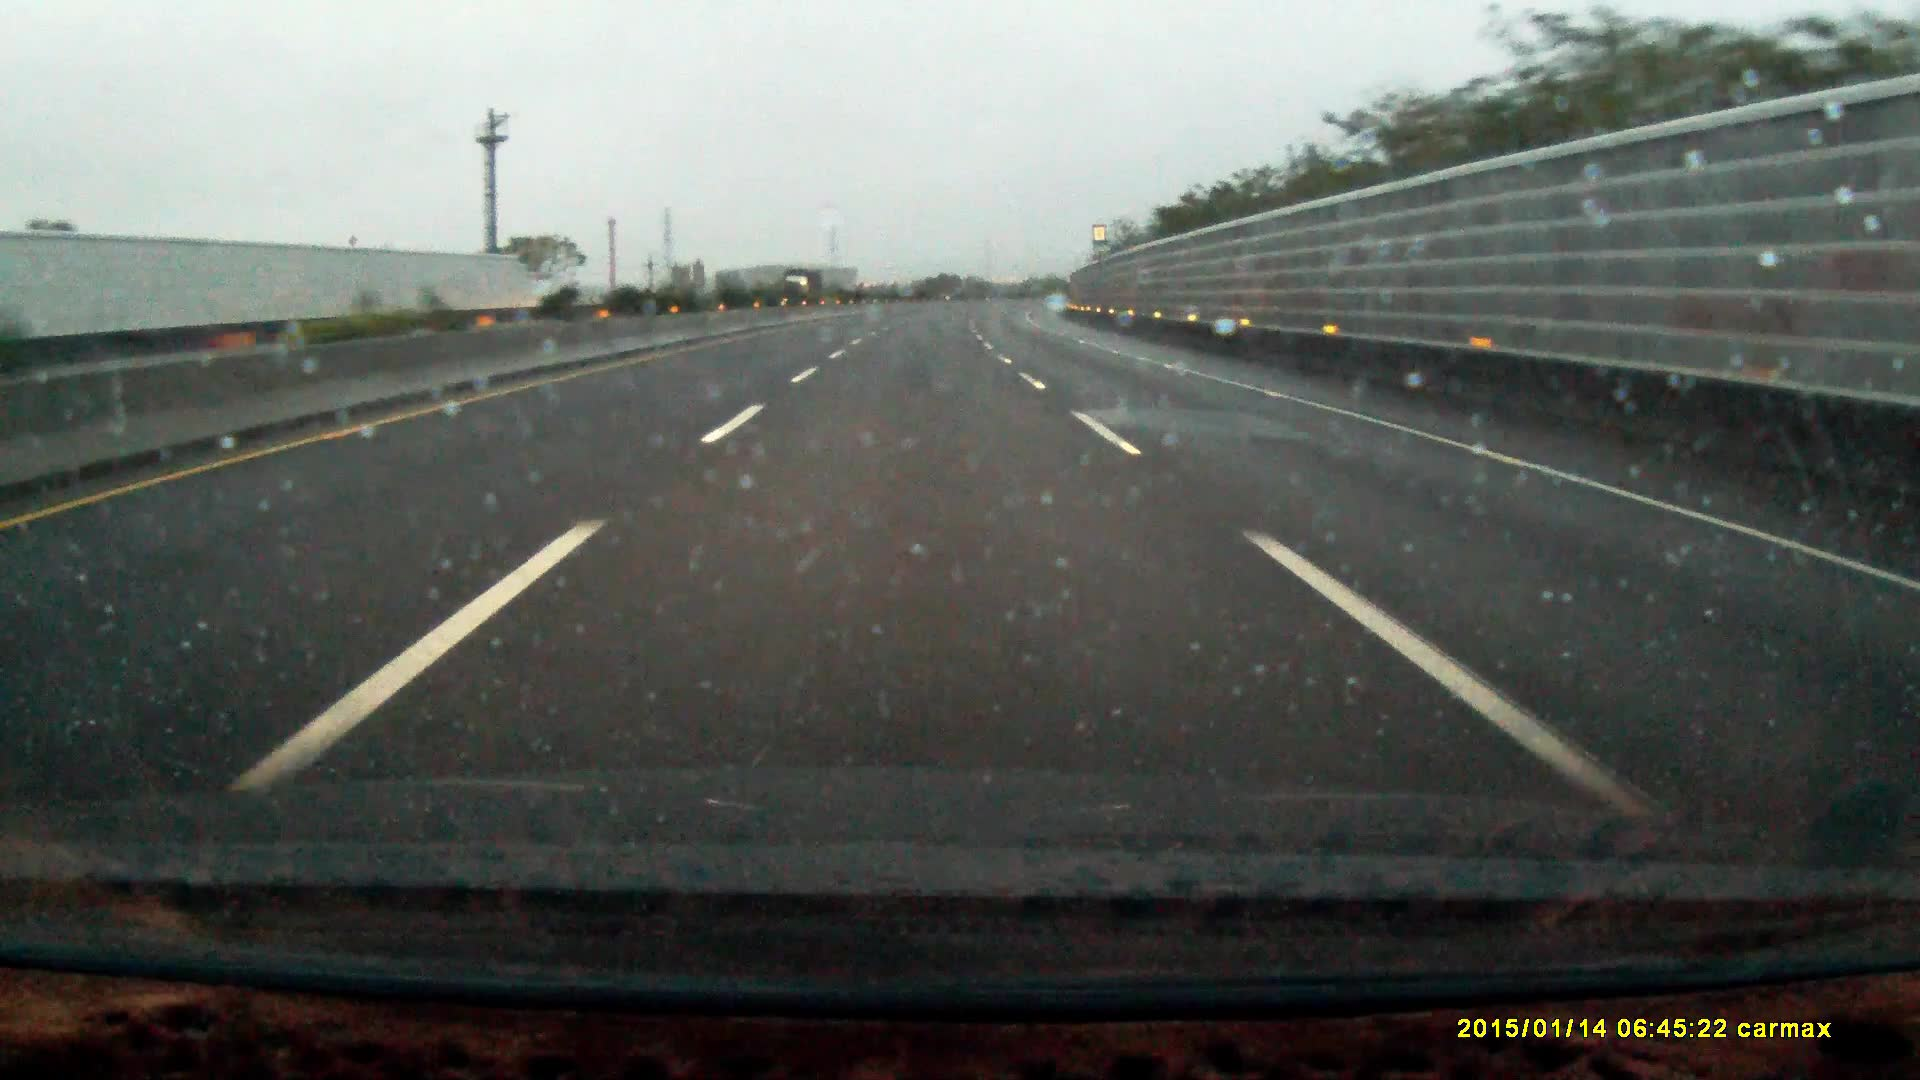vehicle: (783, 268, 824, 303)
